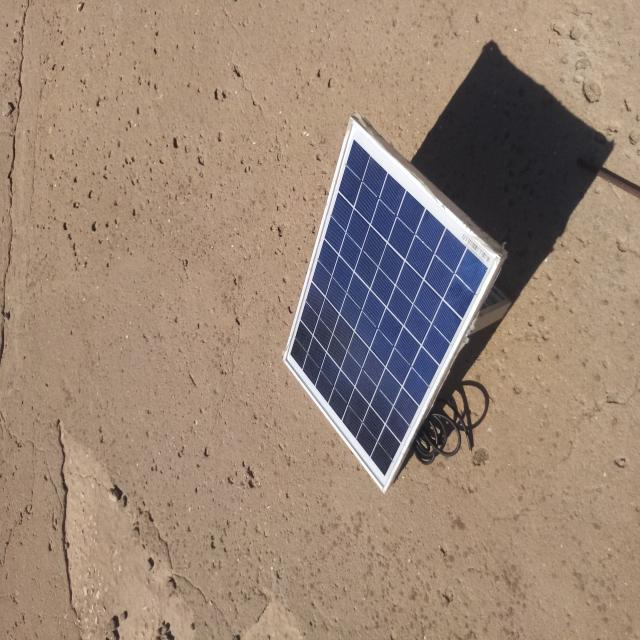no faulty: (286, 121, 502, 490)
